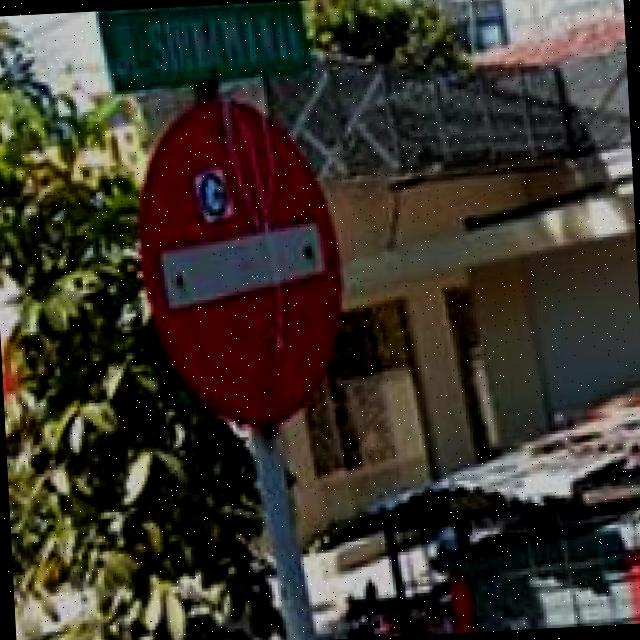Zakaz wjazdu: (140, 96, 352, 429)
